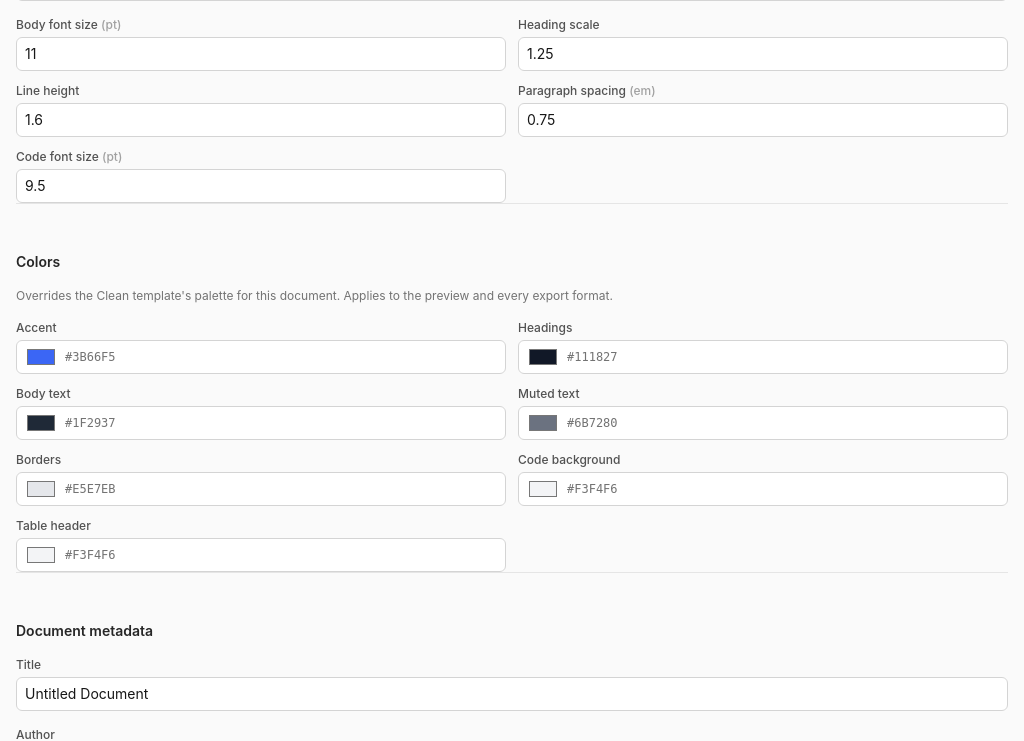
Test: SettingsPanel › overriding a color shows the current template swatch and a reset action
The width and height of the screenshot is (1024, 741).
(page scrolled)
In the colour field labelled "Accent": (41, 357) [25, 345, 57, 369], type "#ff0000"
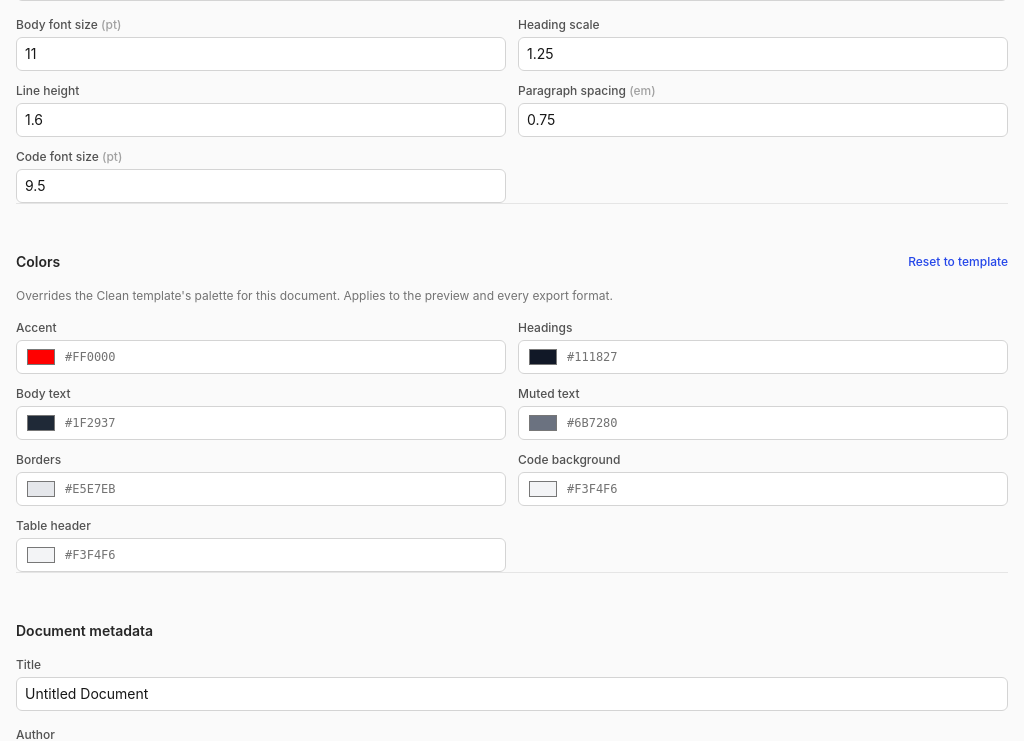
Expected: the button "Reset to template" is shown
Click the button "Reset to template": (958, 262) [908, 254, 1008, 270]
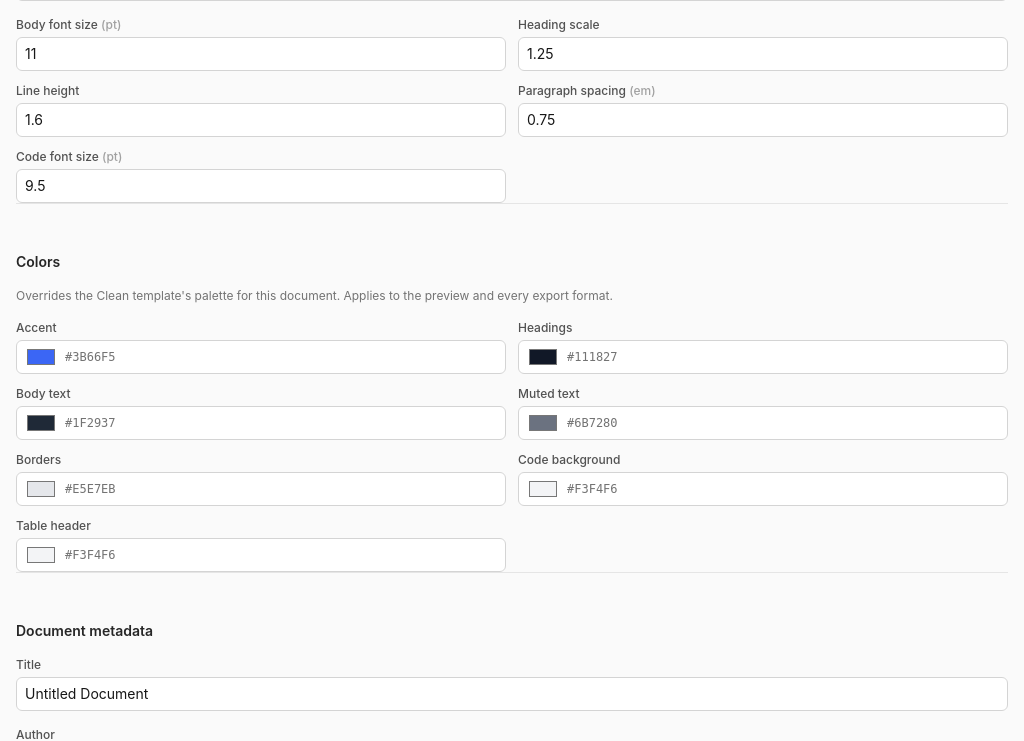
Expected: the colour field labelled "Accent" holds "#3b66f5", [25, 345, 57, 369]
